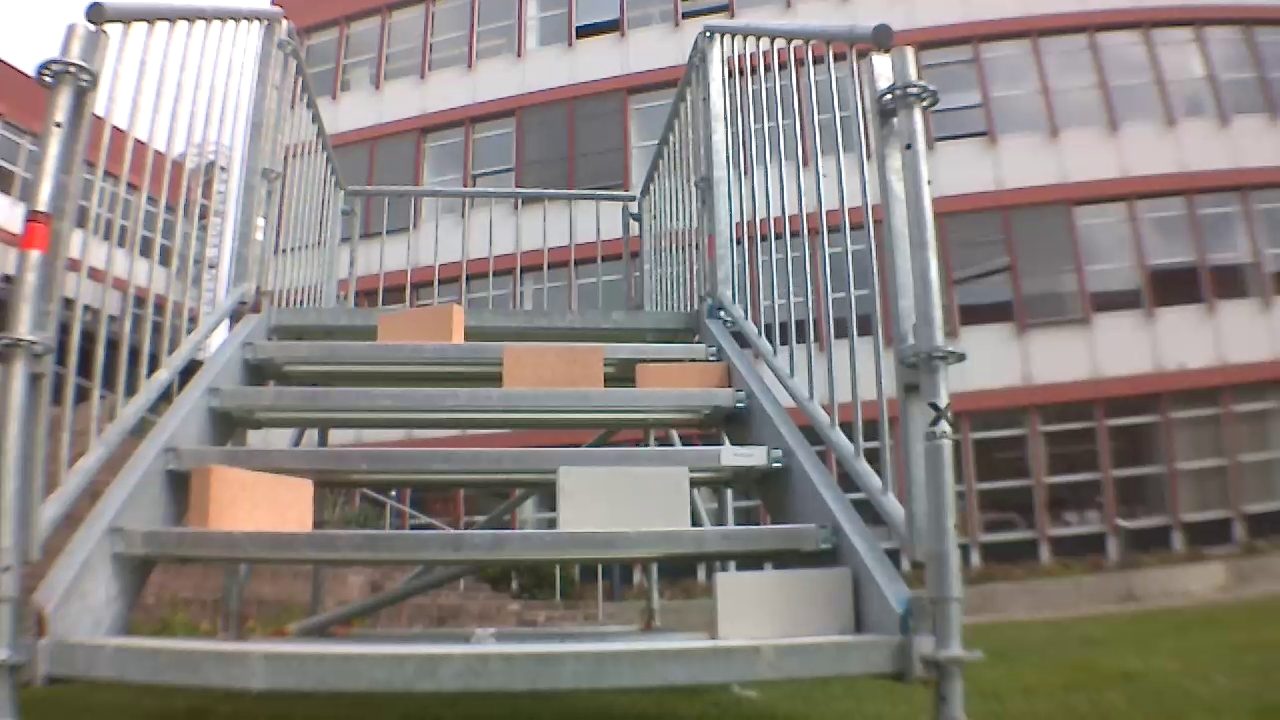brick: (713, 567, 853, 640), (556, 466, 688, 528), (188, 465, 313, 529), (503, 344, 604, 386), (377, 303, 464, 341), (636, 362, 726, 388)
edge: (44, 639, 897, 687), (111, 526, 836, 557), (163, 446, 786, 468), (210, 385, 749, 409), (275, 305, 698, 328), (243, 340, 719, 359)
stairs: (5, 4, 984, 717)
steps: (35, 298, 901, 694)
